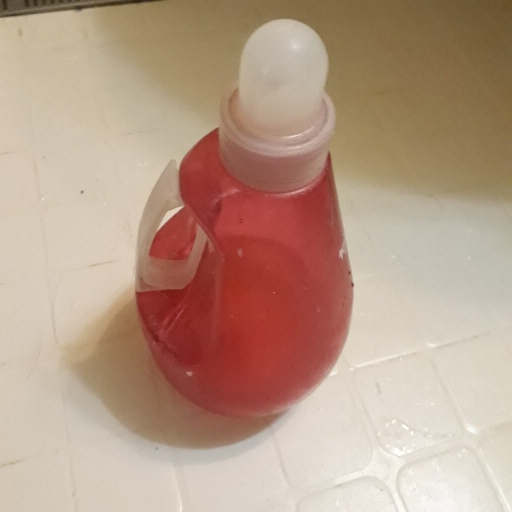Plastic_1: (140, 19, 356, 418)
